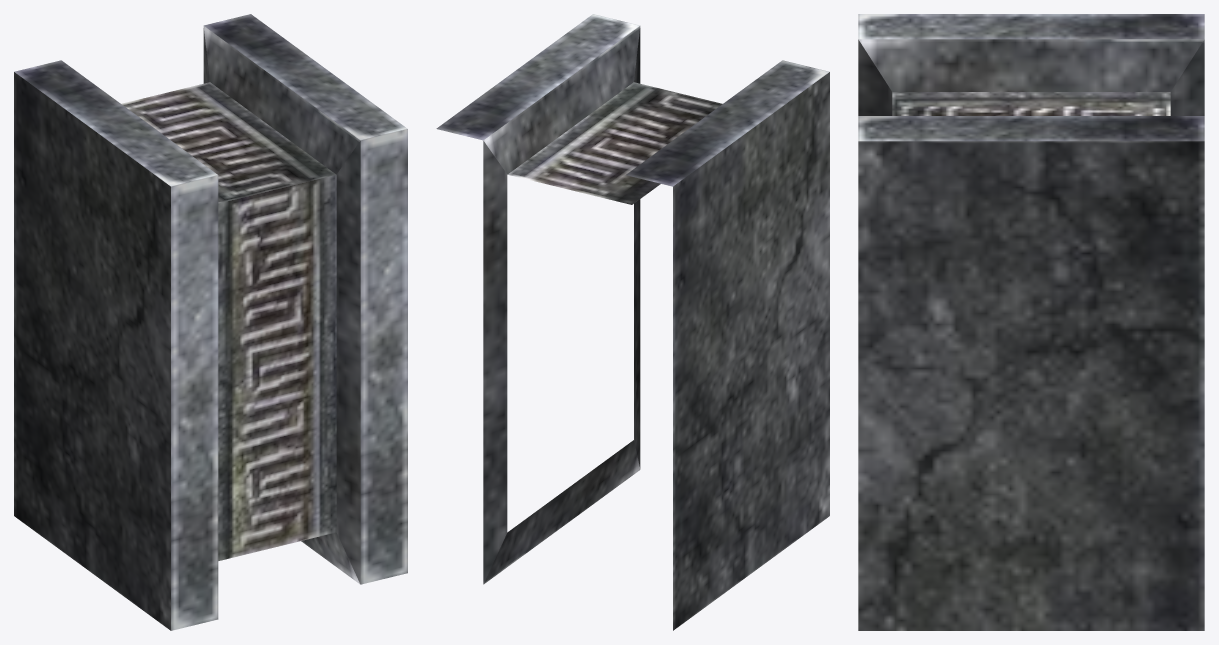
The picture shows the model from 3 angles, left to right: view 1: azimuth 30°, elevation 25°; view 2: azimuth 150°, elevation 25°; view 3: azimuth 270°, elevation 25°; orthographic projection. The views are drawn at different scales.
Parts seen in each view (by area): view 1: model_Object79; view 2: model_Object79; view 3: model_Object79.
Part boxes in pixels (x1=…): model_Object79: x1=14, y1=14, x2=407, y2=630; model_Object79: x1=436, y1=14, x2=829, y2=630; model_Object79: x1=858, y1=14, x2=1204, y2=630.
Size of the model in its own units: 0.4723 by 0.8464 by 0.5421.
Materials: 1 (1 with a texture image).
